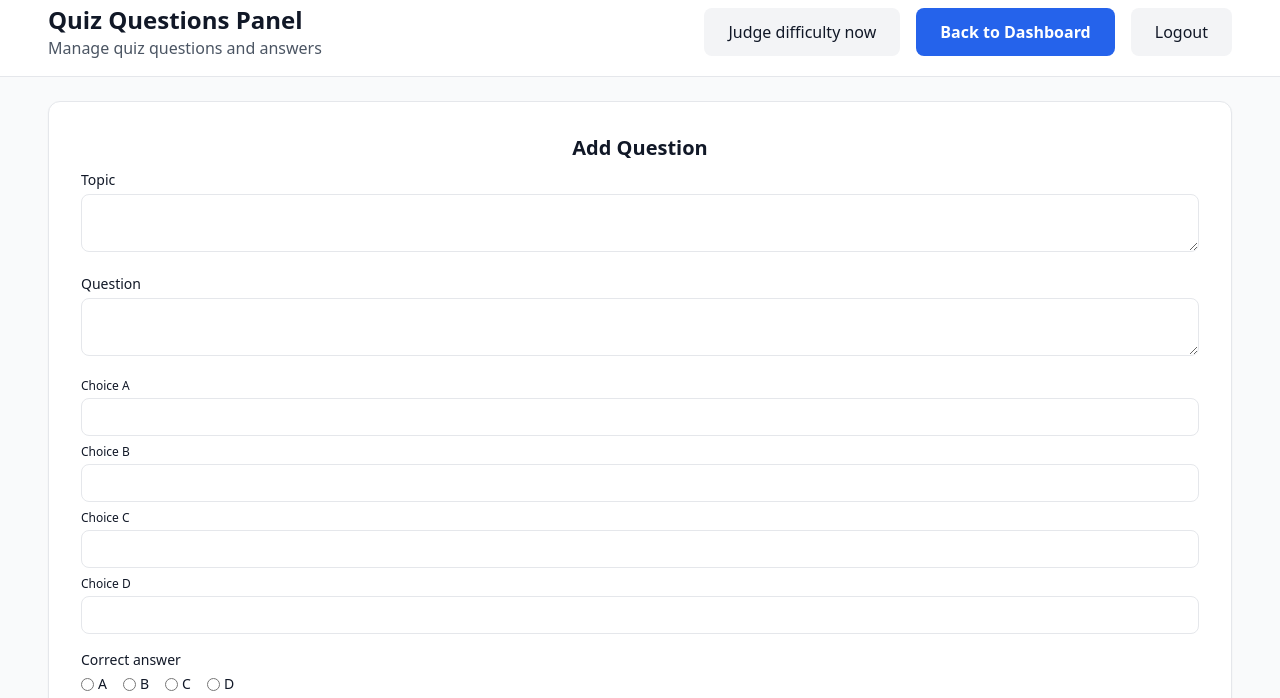
Test: QuestionPanelPage › disables the save button until a correct answer is selected
Click the radio button labelled "A": (88, 684) [81,678,94,690]
(page scrolled)
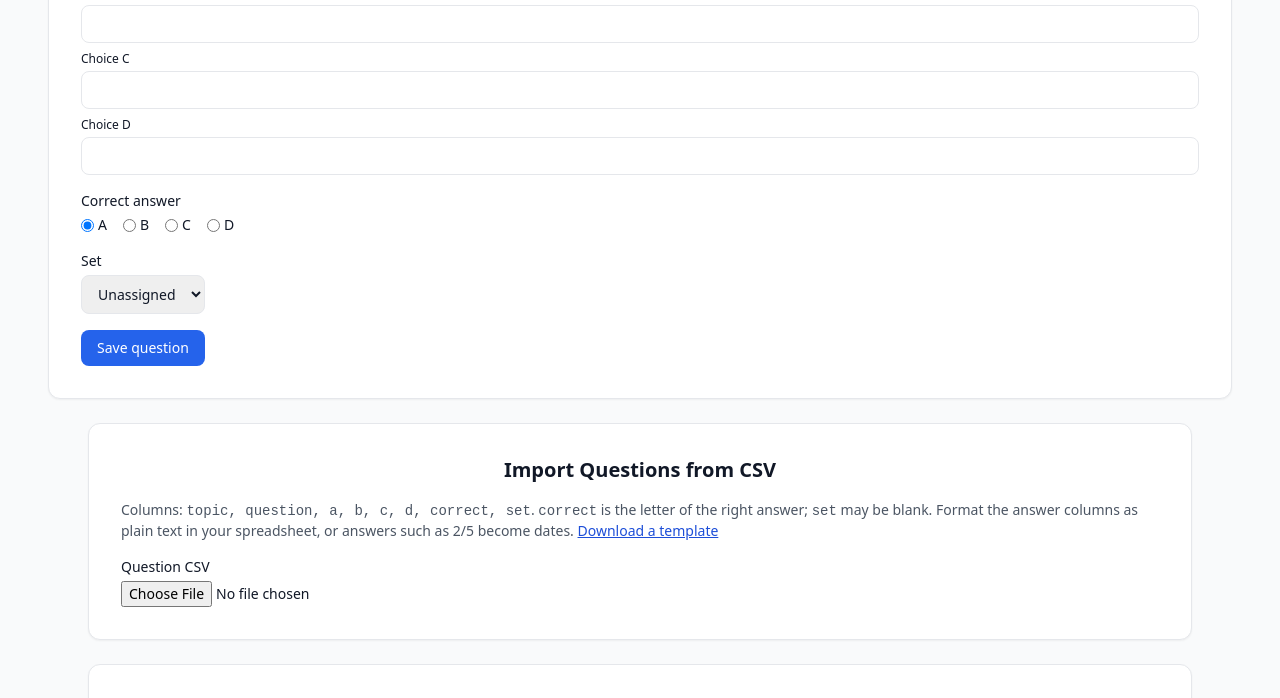
Expected: the button "Save question" is enabled, [81,330,205,366]
